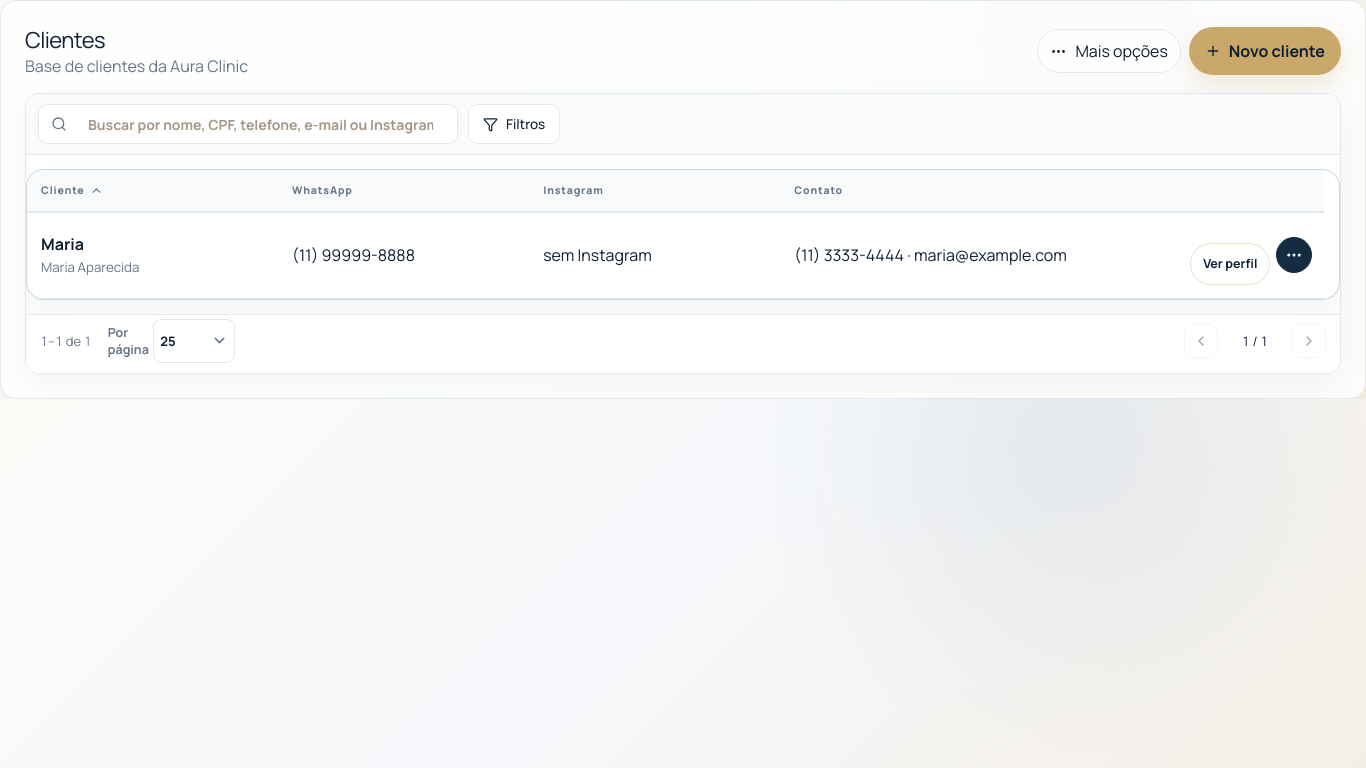
Scenario: clientes e perfil 360 › esconde os indicadores químicos de quem não tem clinical_files.view
The width and height of the screenshot is (1366, 768).
Step 1. Click the button "Ver perfil" → (1230, 264), box [1190,243,1270,285]
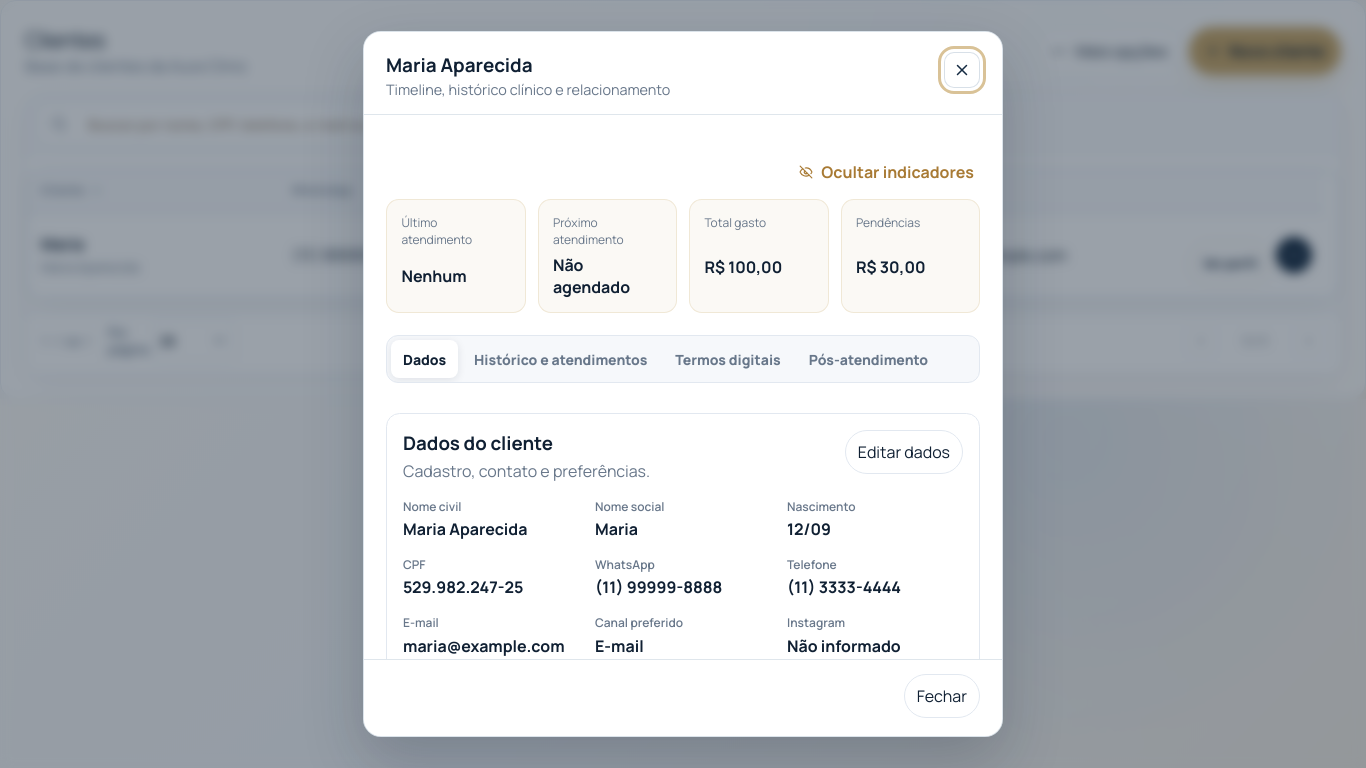
Step 2. Click the tab "Histórico e atendimentos" → (561, 359), box [462,340,659,378]
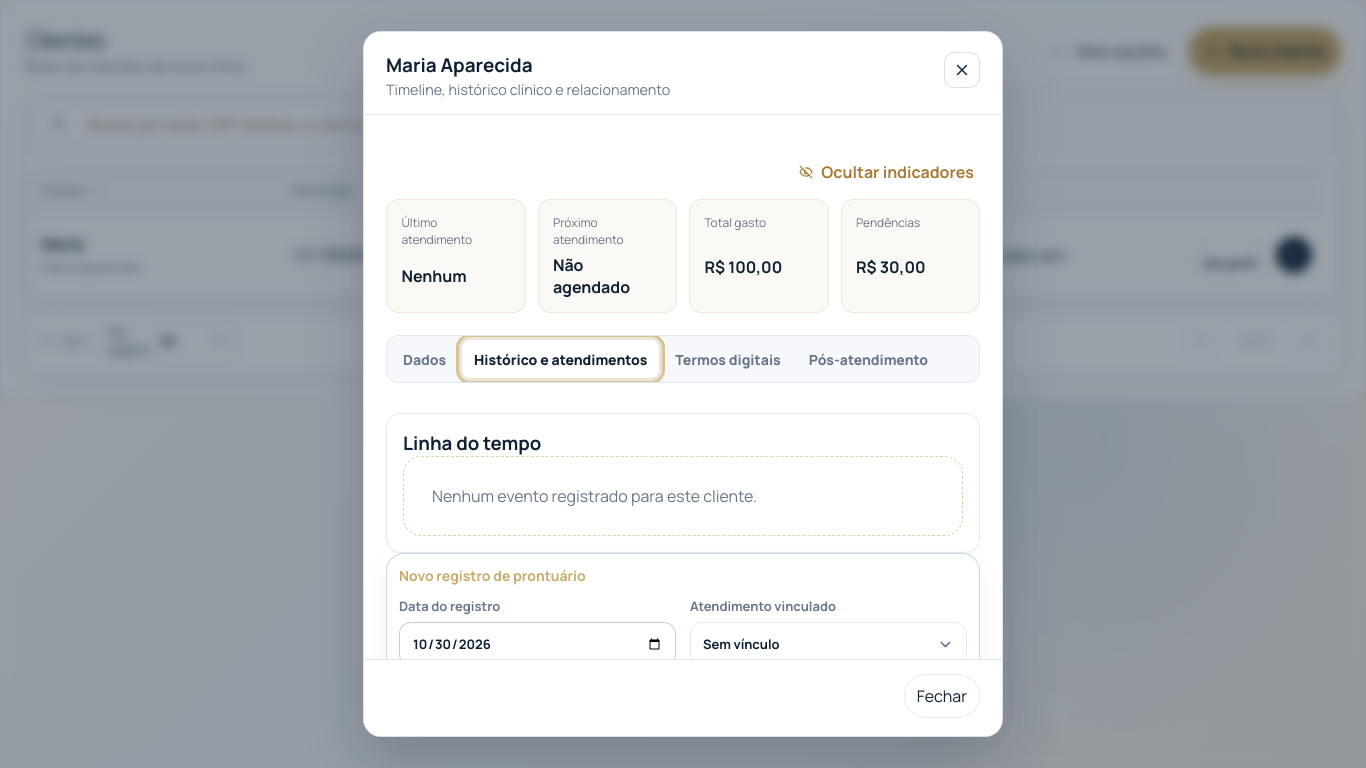
Now the heading "Linha do tempo" is shown, box [403,430,541,456]
